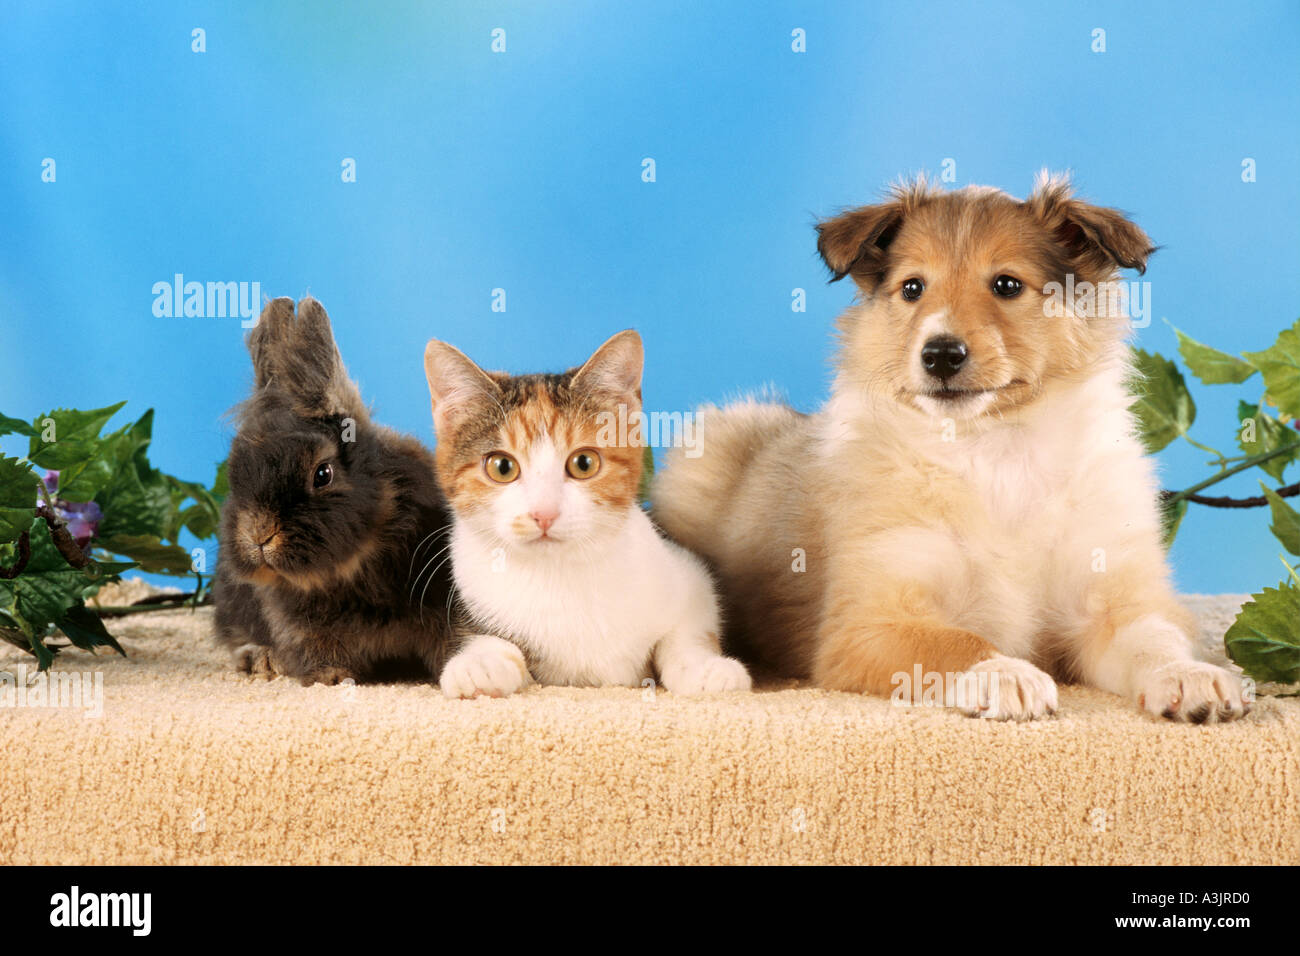cat: (433, 310, 690, 719)
dog: (749, 189, 1261, 733)
rabbit: (197, 282, 428, 712)
